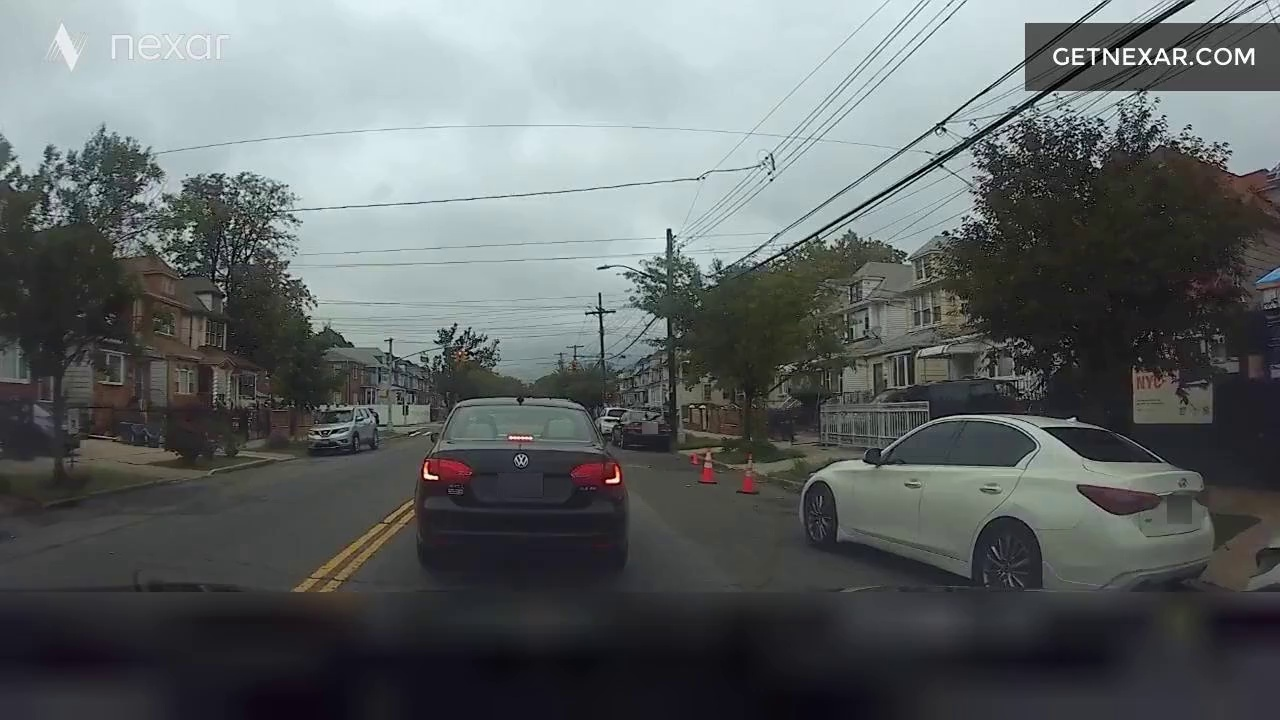car: (790, 389, 1225, 614), (337, 327, 600, 593), (5, 381, 101, 467), (292, 383, 383, 456), (606, 398, 674, 451)
